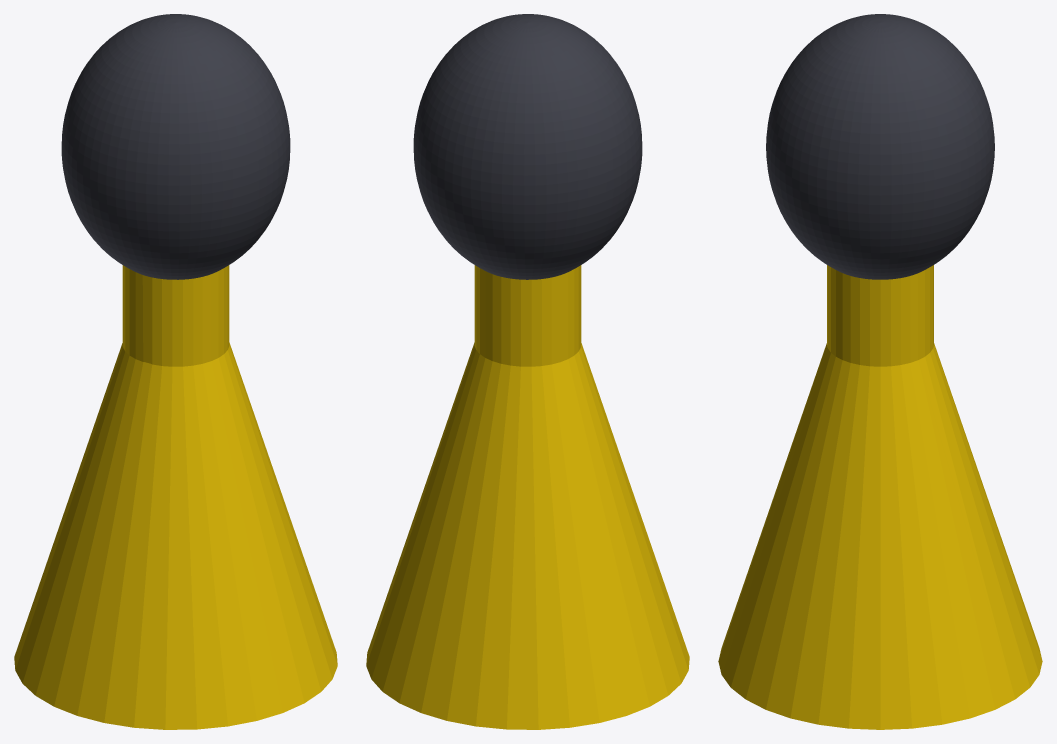
The model's file is Horn.fbx.
3 views of the same model, side by side, from view 1: azimuth 30°, elevation 25°; view 2: azimuth 150°, elevation 25°; view 3: azimuth 270°, elevation 25° (orthographic).
Parts seen in each view (by area): view 1: Cone, Bulb; view 2: Cone, Bulb; view 3: Cone, Bulb.
Part boxes in pixels (bbox=[...]): Cone: bbox=[14, 265, 337, 729]; Bulb: bbox=[61, 14, 290, 279]; Cone: bbox=[366, 265, 689, 729]; Bulb: bbox=[413, 14, 642, 279]; Cone: bbox=[718, 265, 1042, 729]; Bulb: bbox=[766, 14, 994, 279].
Size of the model in its own units: 0.7286 by 1.58 by 0.7286.
